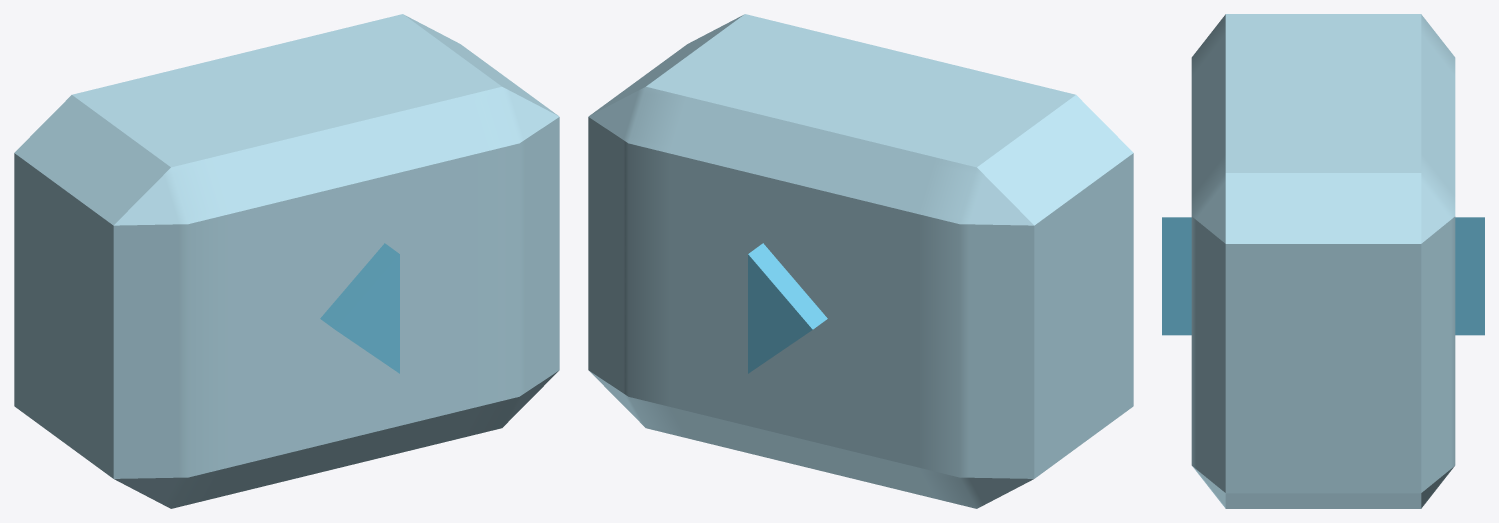
File: play_button_animation_frame0.fbx
The picture shows the model from 3 angles, left to right: view 1: azimuth 30°, elevation 25°; view 2: azimuth 150°, elevation 25°; view 3: azimuth 270°, elevation 25°; orthographic projection.
Visible parts, largest first — view 1: Button, Triangle; view 2: Button, Triangle; view 3: Button, Triangle.
Part boxes in pixels (x1,y1,x2,y2): Button: [14, 14, 559, 508]; Triangle: [320, 243, 399, 373]; Button: [588, 14, 1133, 508]; Triangle: [748, 243, 827, 373]; Button: [1191, 14, 1455, 508]; Triangle: [1162, 217, 1484, 335].
Size of the model in its own units: 385 by 282 by 245.
